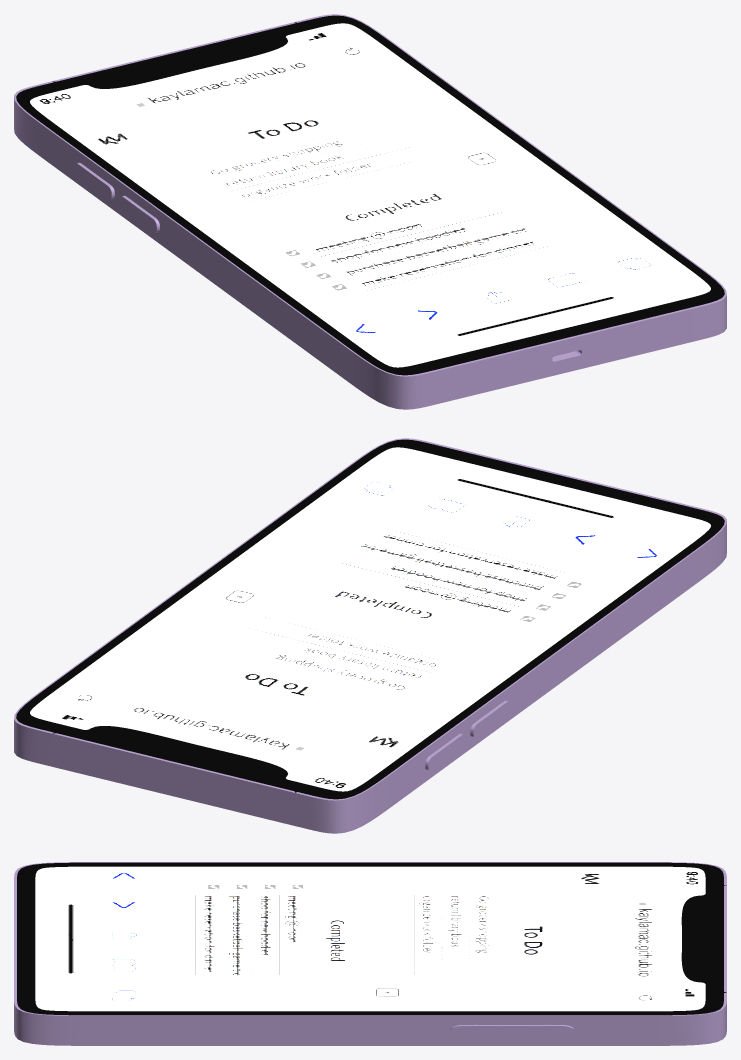
Rendered from tdPhone.gltf.
3 views of the same model, one above another, from view 1: azimuth 30°, elevation 25°; view 2: azimuth 150°, elevation 25°; view 3: azimuth 270°, elevation 25° (orthographic). The views are drawn at different scales.
Parts seen in each view (by area): view 1: screen, phoneBase, front, volumeButtons; view 2: screen, phoneBase, front, volumeButtons; view 3: screen, phoneBase, front, powerButton.
Boxes of the visible parts, x1,y1,x2,y2 form: screen: [30, 23, 710, 367]; phoneBase: [14, 14, 726, 409]; front: [16, 15, 724, 375]; volumeButtons: [74, 162, 159, 232]; screen: [30, 447, 710, 791]; phoneBase: [14, 438, 726, 833]; front: [16, 439, 724, 799]; volumeButtons: [425, 700, 510, 770]; screen: [35, 866, 705, 1011]; phoneBase: [14, 862, 726, 1045]; front: [17, 862, 726, 1015]; powerButton: [450, 1024, 573, 1037].
Size of the model in its own units: 2.24 by 0.2293 by 4.31.
8 materials, 1 textured.
